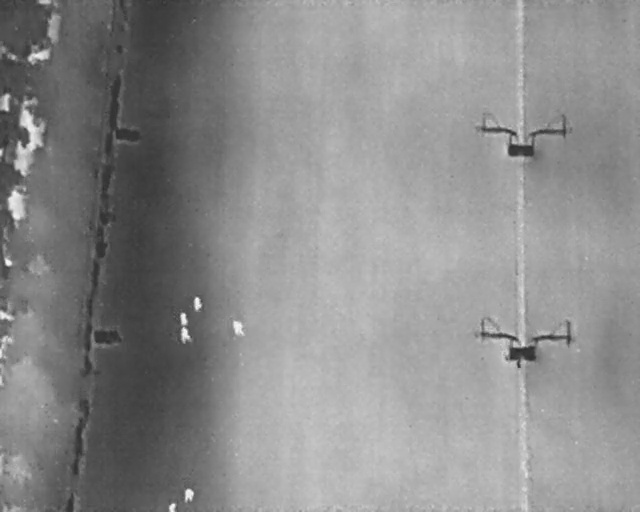Person: (231, 319, 245, 337), (177, 311, 190, 328), (179, 327, 191, 344), (192, 294, 203, 312), (184, 487, 195, 503), (167, 501, 177, 511)
